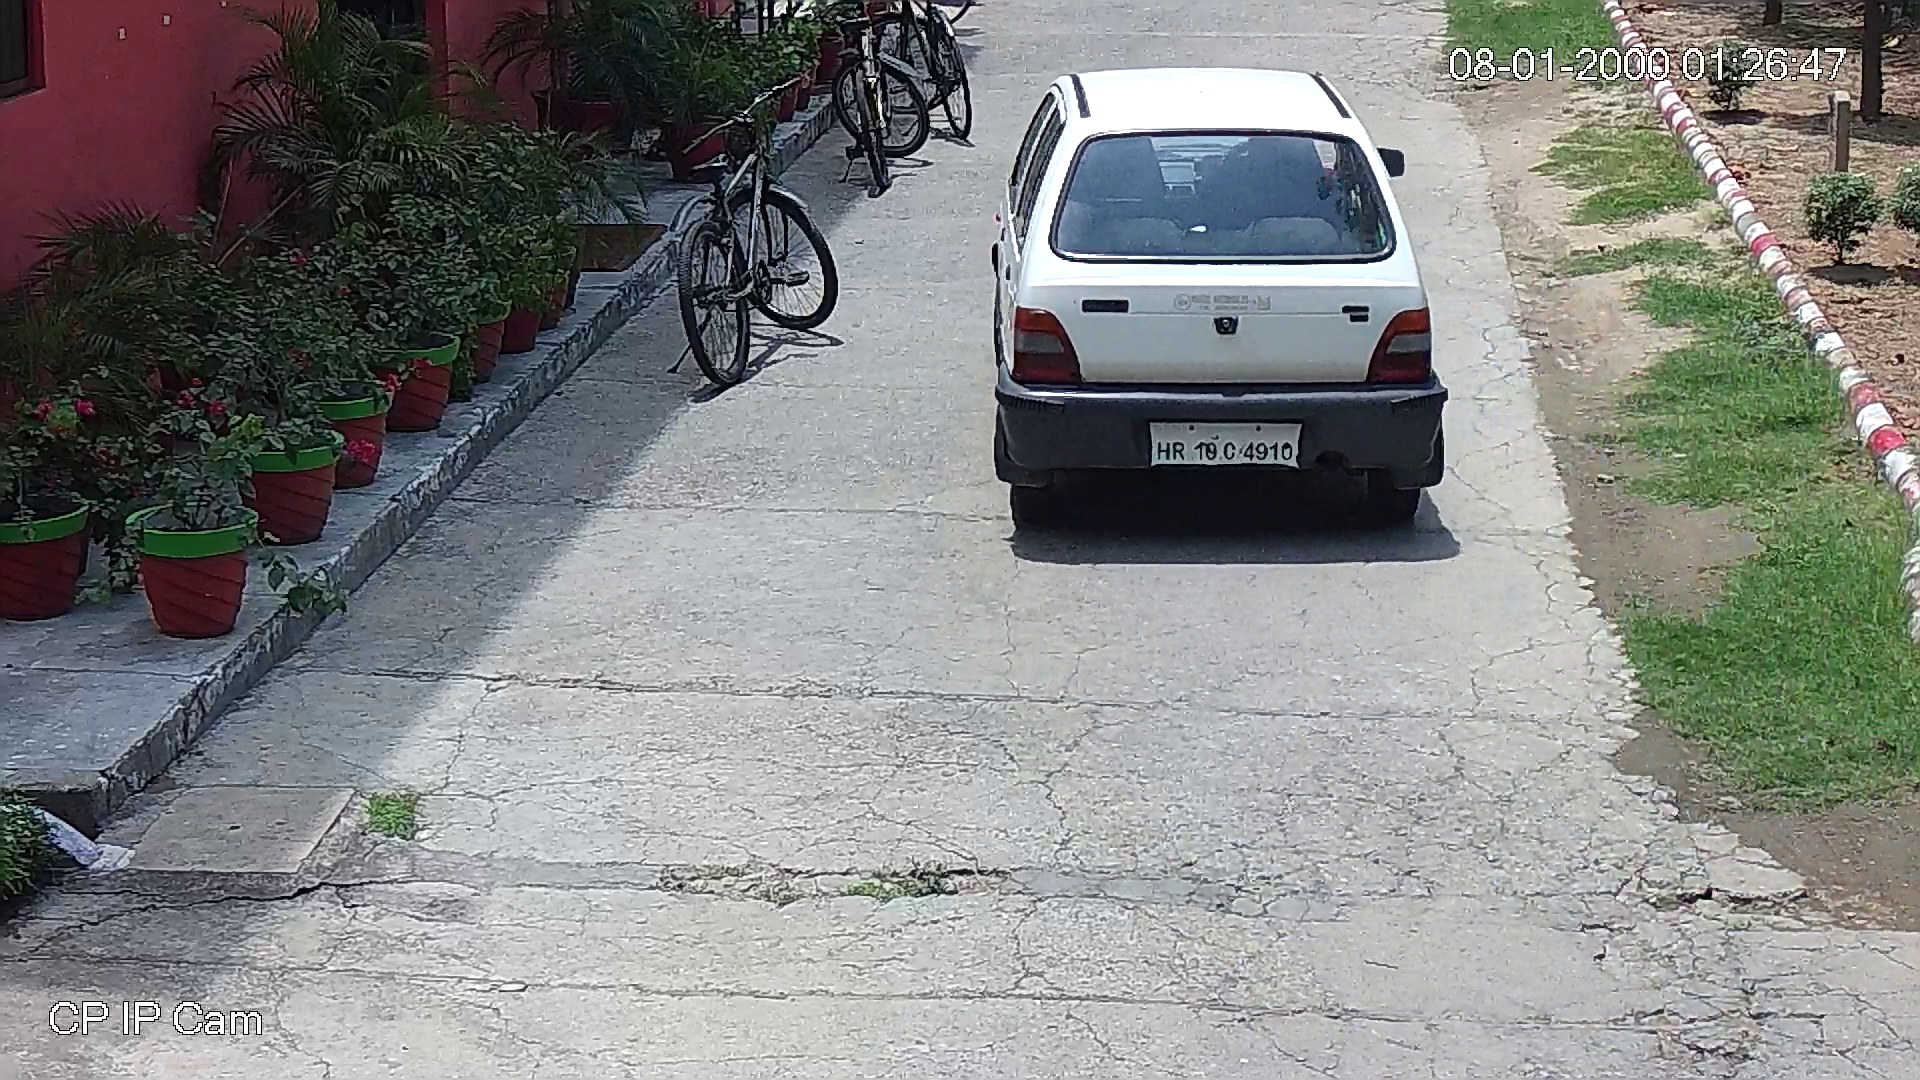plate: (1152, 423, 1301, 464)
